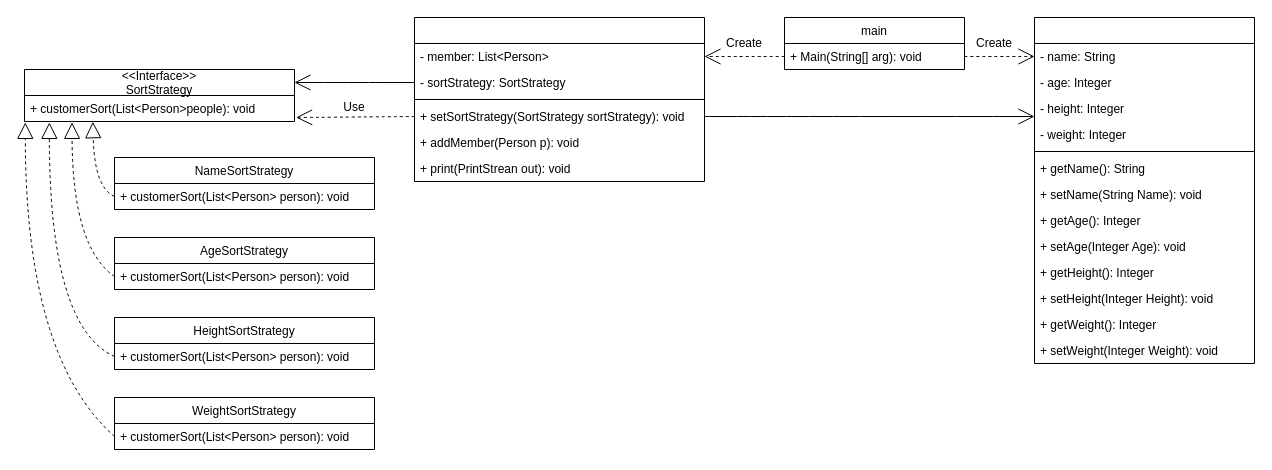
Image size: 1272x470. Some labels were removed from this diagram. Here are the shapes that lost their labels. From the top down, the box of each, then its label:
(414, 16, 704, 182): People
(1034, 16, 1254, 364): Person
